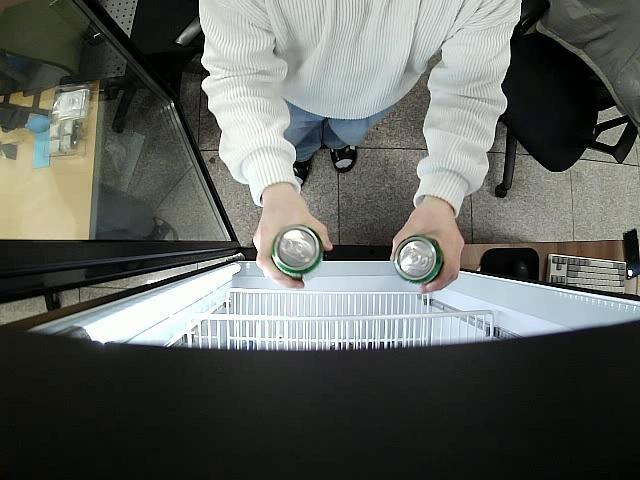12_chilsungCider: (272, 225, 324, 278), (394, 235, 444, 284)
